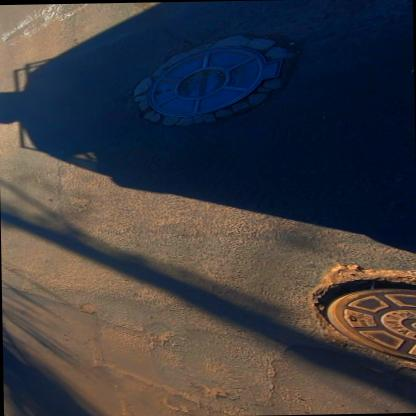manholes: (119, 31, 297, 126), (291, 264, 416, 376)
